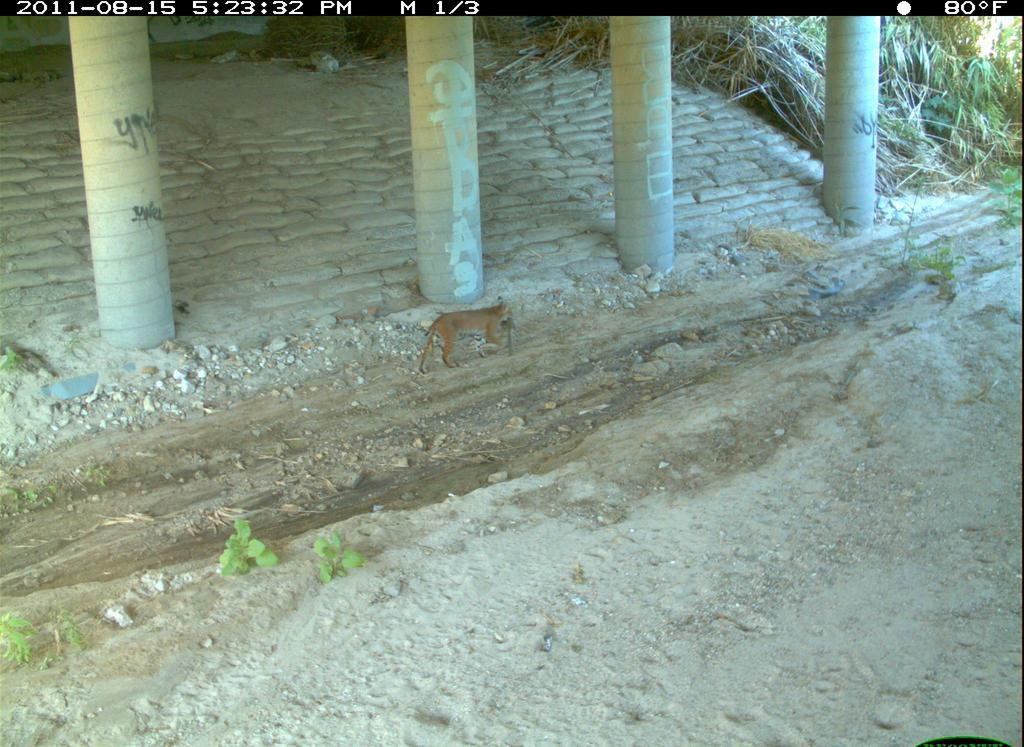bobcat: (831, 582, 1024, 747)
rabbit: (1001, 625, 1024, 723)
